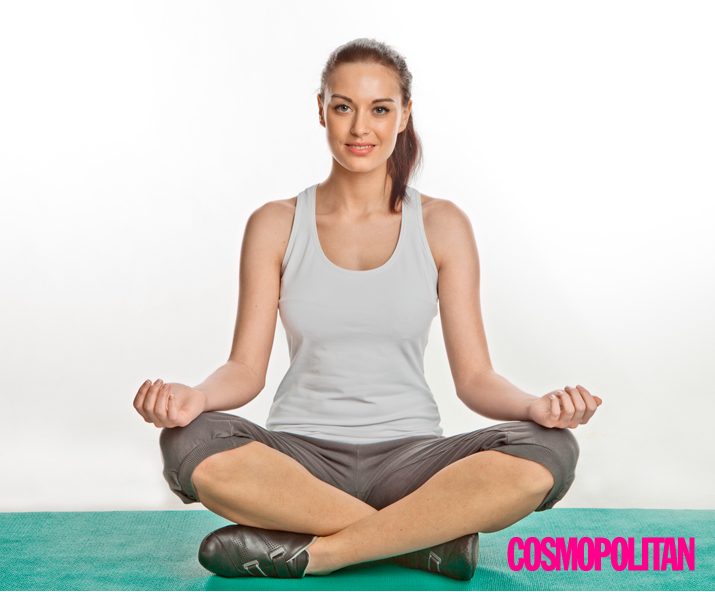hand: (123, 374, 217, 433), (525, 387, 604, 438)
